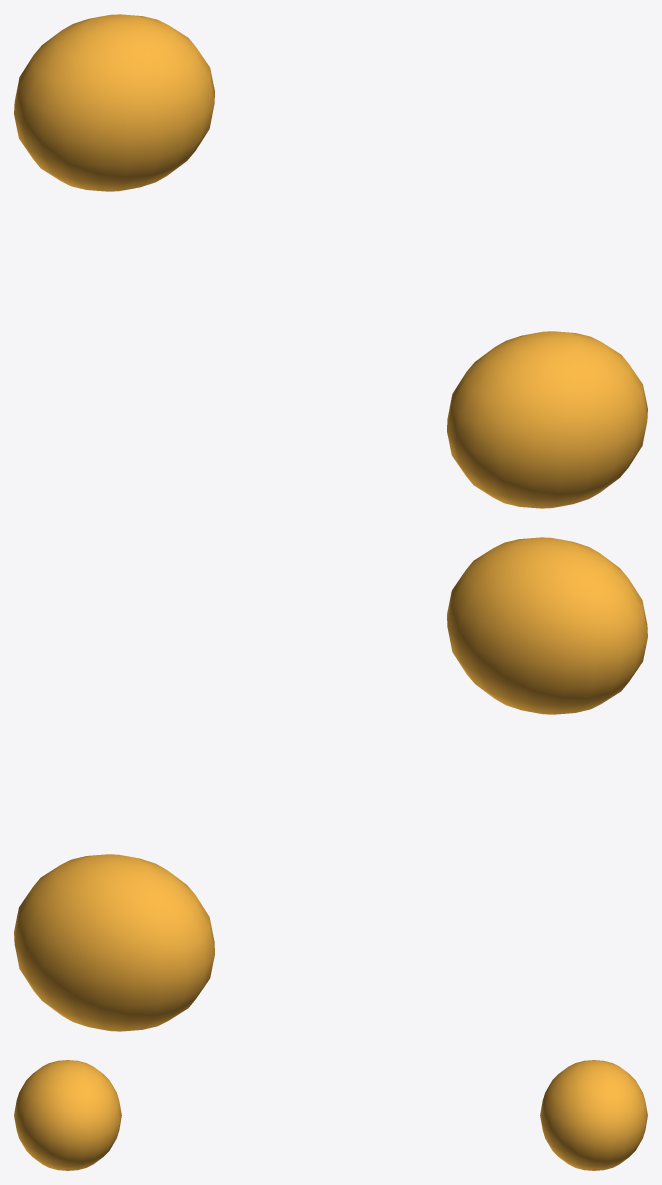
File: indicators_rear.glb
3 renders of one model, top to bottom at view 1: azimuth 30°, elevation 25°; view 2: azimuth 150°, elevation 25°; view 3: azimuth 270°, elevation 25°, orthographic. The views are drawn at different scales.
Visible parts, largest first — view 1: S51_Indicators_Rear; view 2: S51_Indicators_Rear; view 3: S51_Indicators_Rear.
Part boxes in pixels (x1=…): S51_Indicators_Rear: x1=14, y1=14, x2=647, y2=508; S51_Indicators_Rear: x1=14, y1=537, x2=647, y2=1031; S51_Indicators_Rear: x1=14, y1=1060, x2=647, y2=1170.
Size of the model in its own units: 0.19 by 0.16 by 0.94.
